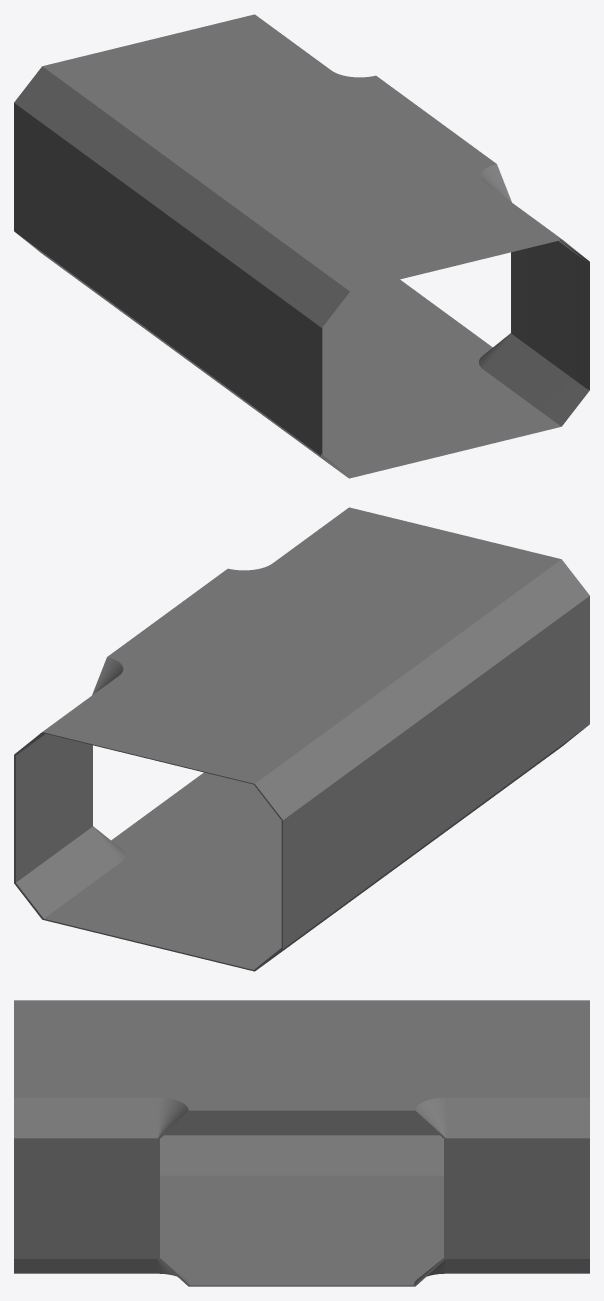
The model's file is T_Hallway.fbx.
3 views of the same model, one above another, from view 1: azimuth 30°, elevation 25°; view 2: azimuth 150°, elevation 25°; view 3: azimuth 270°, elevation 25° (orthographic). The views are drawn at different scales.
Visible parts, largest first — view 1: normal Hallway.002; view 2: normal Hallway.002; view 3: normal Hallway.002.
Part boxes in pixels (<box>): normal Hallway.002: <box>14,14,589,478</box>; normal Hallway.002: <box>14,507,589,971</box>; normal Hallway.002: <box>14,1000,589,1286</box>.
Size of the model in its own units: 607 by 405 by 1200.
